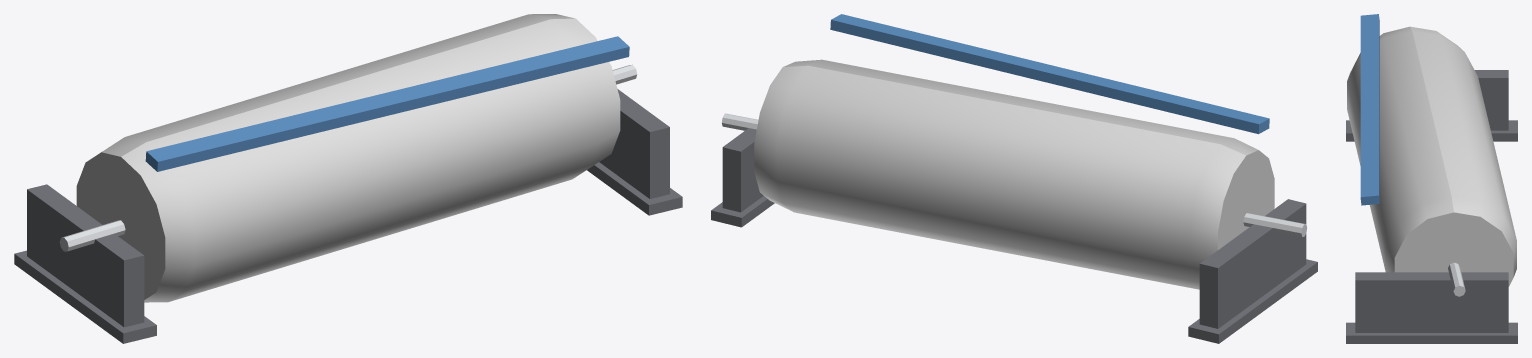
File: community-sports-hall-and-changing-rooms-spare-net-rol-585f10ed__35126.glb
3 views of the same model, side by side, from view 1: azimuth 30°, elevation 25°; view 2: azimuth 150°, elevation 25°; view 3: azimuth 270°, elevation 25° (orthographic). The views are drawn at different scales.
Parts seen in each view (by area): view 1: spare-net-roll; view 2: spare-net-roll; view 3: spare-net-roll.
Boxes of the visible parts, box(x1,y1,x2,y2) form: spare-net-roll: box(14, 14, 682, 343); spare-net-roll: box(711, 14, 1317, 343); spare-net-roll: box(1346, 14, 1517, 343).
Bounding box in the file's own units: 1.8 × 0.4729 × 0.56.
